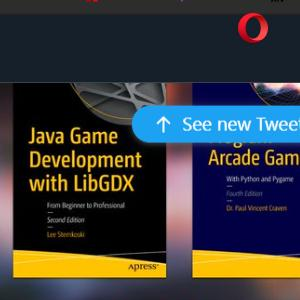opera: (237, 13, 269, 44)
